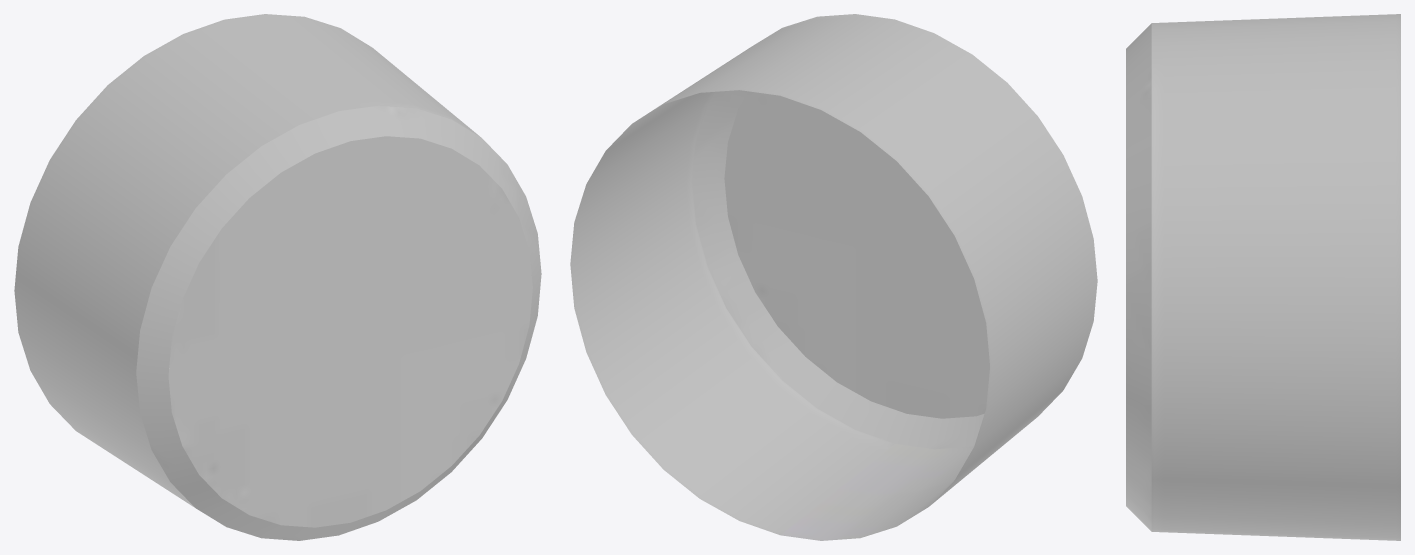
File: volume_knob-transformed.glb
3 views of the same model, side by side, from view 1: azimuth 30°, elevation 25°; view 2: azimuth 150°, elevation 25°; view 3: azimuth 270°, elevation 25° (orthographic). The views are drawn at different scales.
Visible parts, largest first — view 1: volume_mixer; view 2: volume_mixer; view 3: volume_mixer.
Boxes of the visible parts, bbox=[...] form: volume_mixer: bbox=[14, 14, 541, 540]; volume_mixer: bbox=[570, 14, 1097, 540]; volume_mixer: bbox=[1126, 14, 1400, 540].
Size of the model in its own units: 0.0298 by 0.0298 by 0.0155.
Materials: 1 (1 with a texture image).
